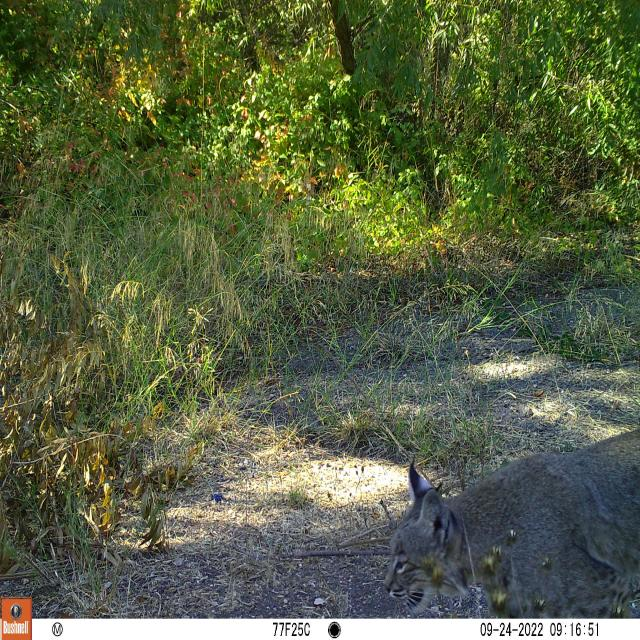Wildcat: (365, 420, 640, 617)
